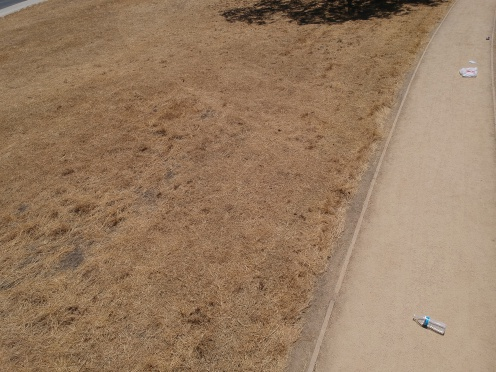bottle: (410, 309, 449, 337)
can: (483, 30, 493, 43)
plastic bag: (454, 64, 481, 80)
